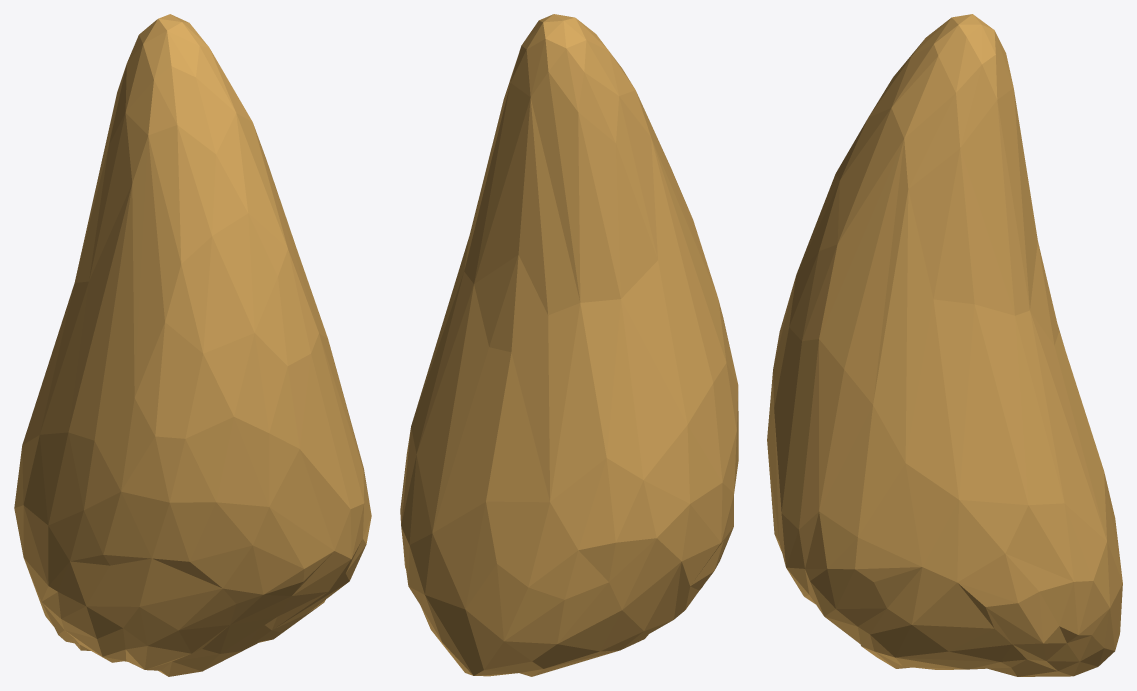
File: SM_LP_Fossil_6.fbx
The picture shows the model from 3 angles, left to right: view 1: azimuth 30°, elevation 25°; view 2: azimuth 150°, elevation 25°; view 3: azimuth 270°, elevation 25°; orthographic projection. The views are drawn at different scales.
Visible parts, largest first — view 1: SM_LP_Fossil_6; view 2: SM_LP_Fossil_6; view 3: SM_LP_Fossil_6.
Part boxes in pixels (bbox=[...]): SM_LP_Fossil_6: bbox=[14, 14, 371, 676]; SM_LP_Fossil_6: bbox=[400, 14, 738, 676]; SM_LP_Fossil_6: bbox=[767, 14, 1122, 676].
Bounding box in the file's own units: 0.2315 × 0.4832 × 0.2427.
